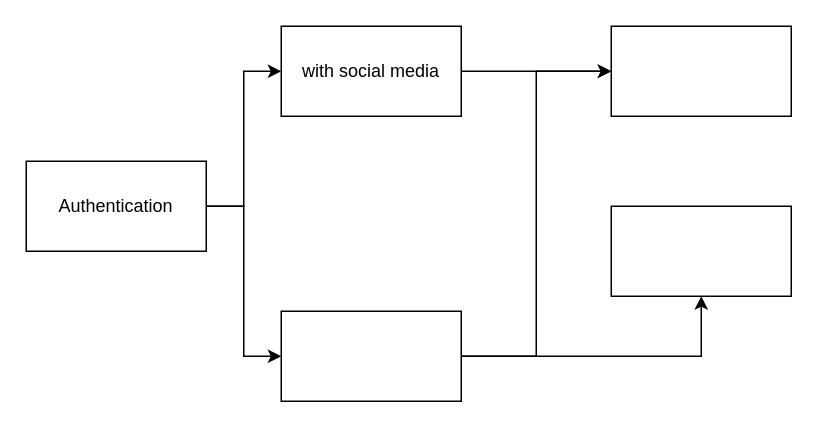
Image size: 818x428. Some labels were removed from this diagram. The centre of each missing label's shape, as x and y in pixels:
"auth0" belongs at (700,70).
"password based" belongs at (370,355).
